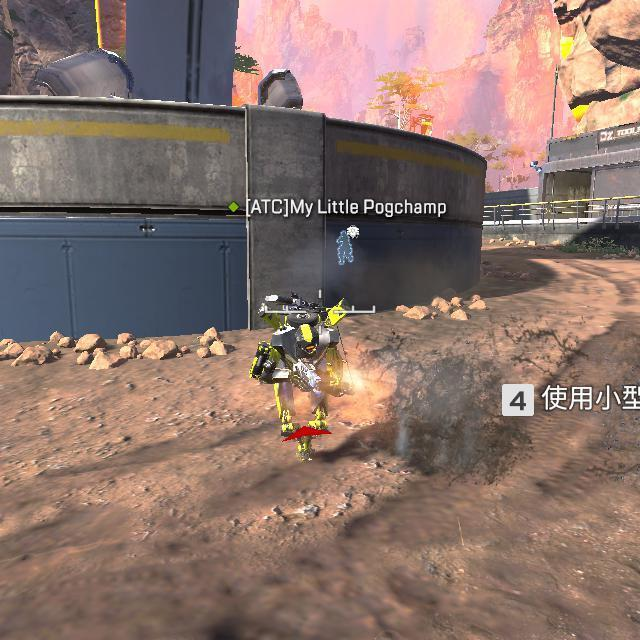avatar: (247, 292, 350, 466)
